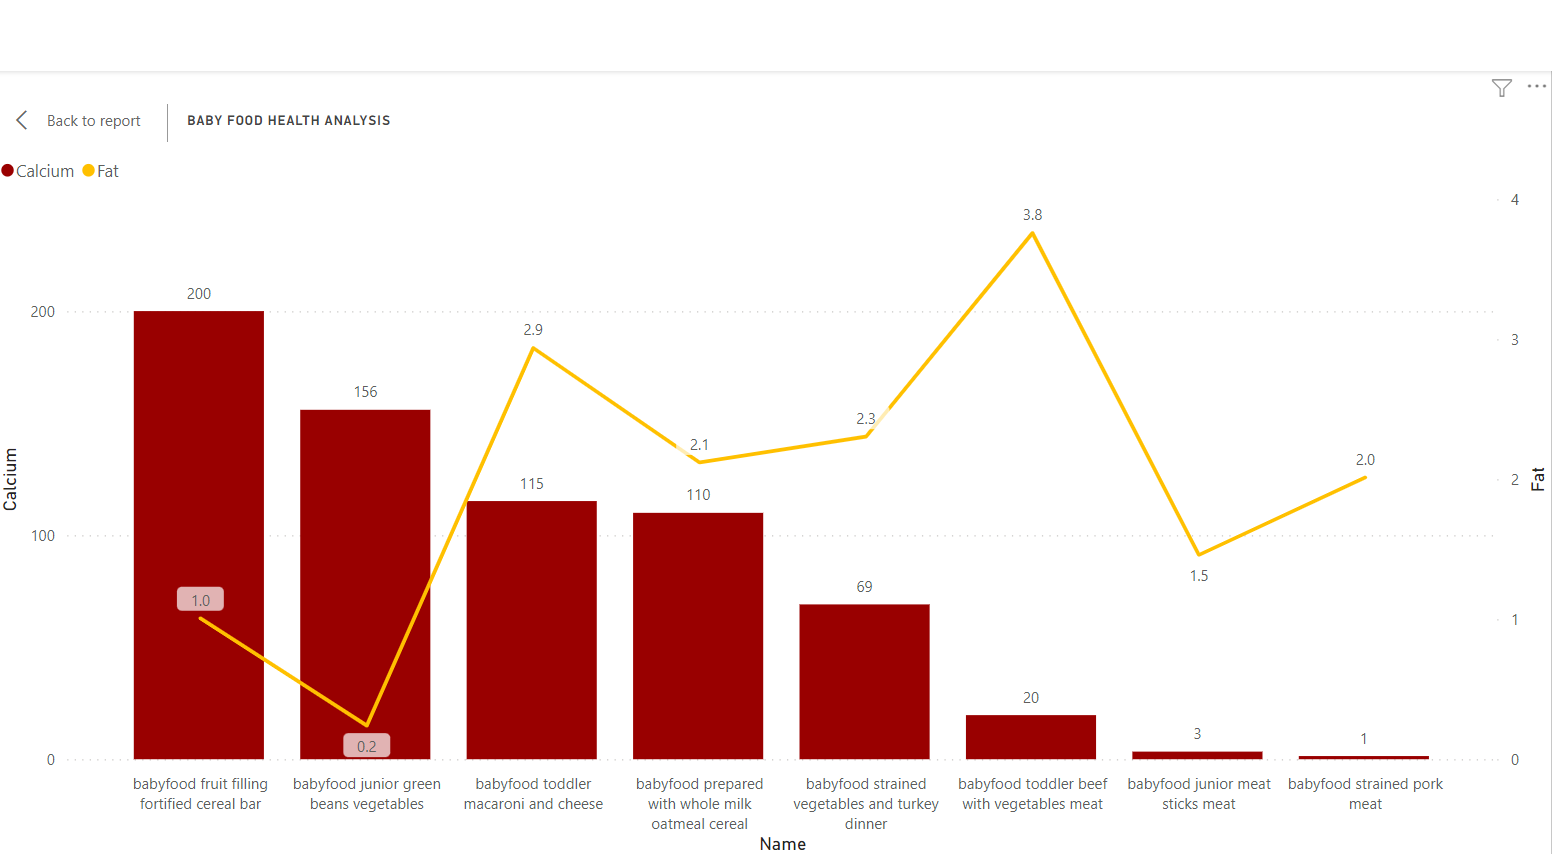

The dashboard page shown, as its layout file describes it:
{"tool":"powerbi","page":{"name":"Page 1","canvas":[1280,720],"ordinal":0},"visuals":[{"type":"lineStackedColumnComboChart","title":"Baby Food Health Analysis","fields":{"Y":["Sum(babyfood.Calcium)"],"Y2":["Sum(babyfood.Fat)"],"Category":["babyfood.Name"]},"box":[10.4,0,1269.5,700.4],"z":0}]}

Visuals, with their boxes on the page's 1280x720 design canvas (x1, y1, x2, y2). These are canvas units, not pixel positions in the 1552x854 screenshot, which may show the page scaled, cropped or inside an application window:
"Baby Food Health Analysis" lineStackedColumnComboChart: box(10, 0, 1280, 700)
